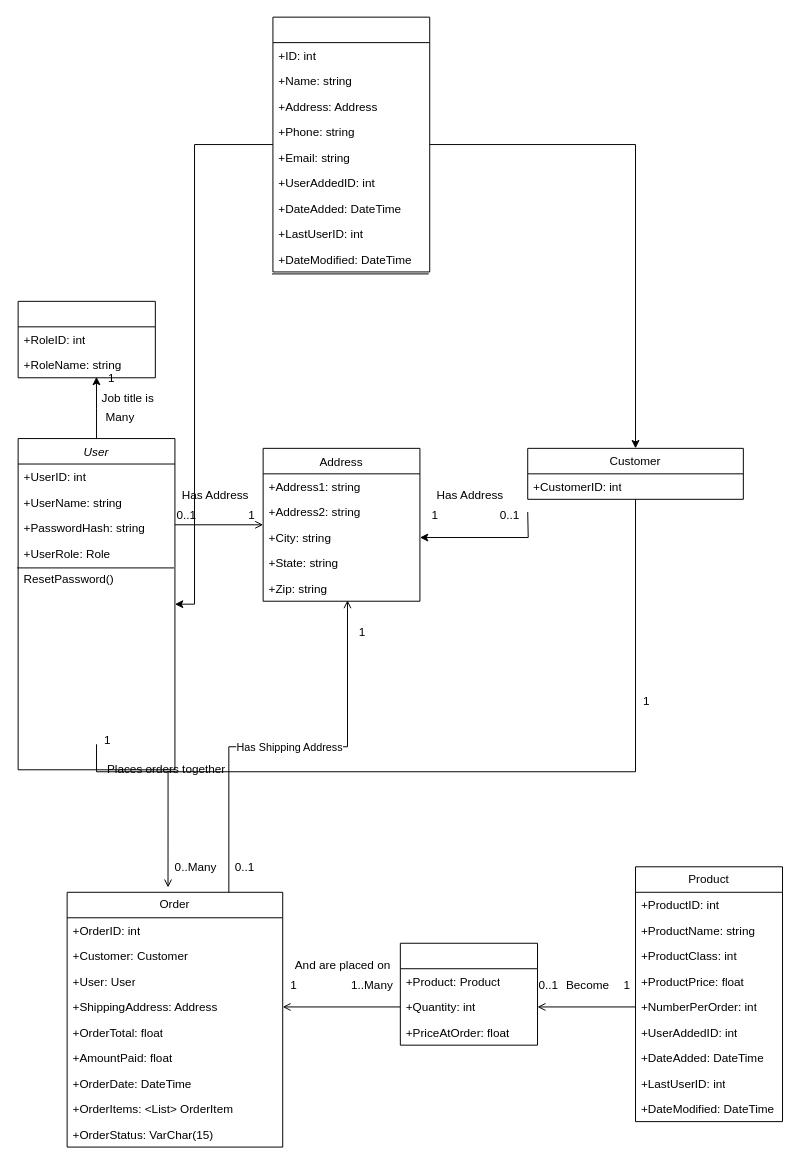
The diagram is 800 pixels wide and 1167 high, and some of its shapes have lost their labels. The box of each missing label's shape, as (x1, y1, x2, y2) in pixels:
OrderItem: (399, 942, 538, 1045)
Person: (272, 16, 430, 272)
UserRole: (17, 300, 155, 378)
